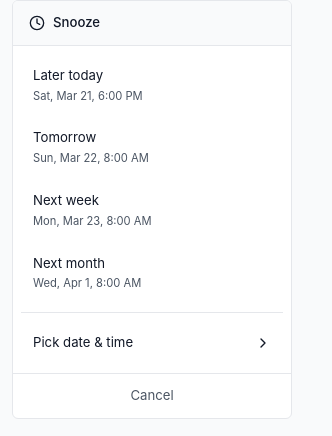
it: DateTimePicker - custom form view (lines 66-91) › back button returns to presets view
Click the button "Pick date & time". click: click(83, 342)
box: x1=21 y1=321 x2=283 y2=365
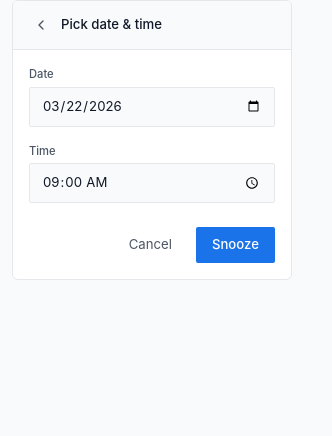
expect the button "Later today" is gone: met
# Click back (chevronLeft button)
Click the 1st button. click: click(41, 25)
box: x1=29 y1=13 x2=53 y2=37
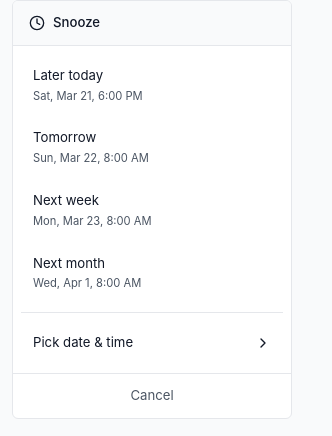
expect the text "Later today" is shown: met, box x1=33 y1=67 x2=103 y2=83
